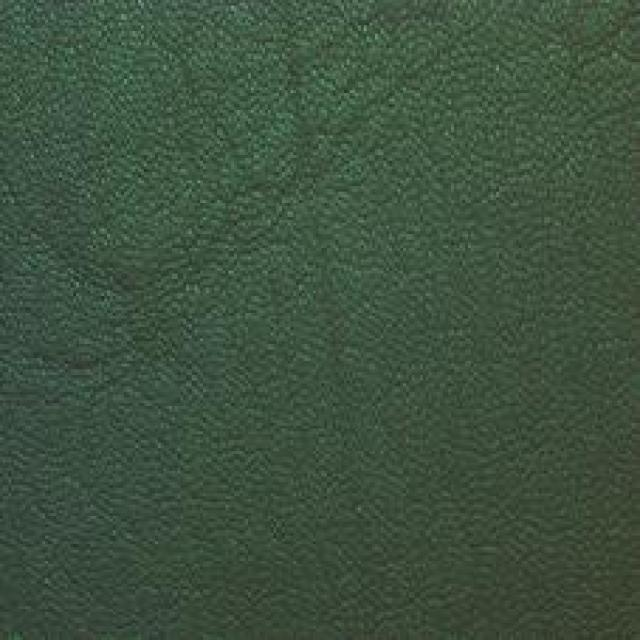Growth Marks: (64, 252, 218, 421), (261, 38, 363, 272)
